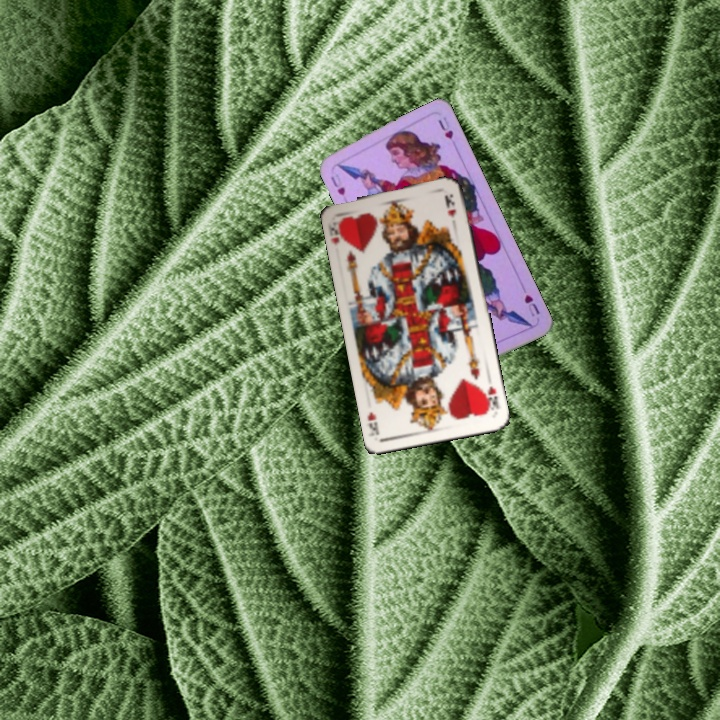HK: (325, 214, 348, 248), (481, 382, 502, 413)
HU: (518, 283, 542, 319), (326, 172, 348, 198)
